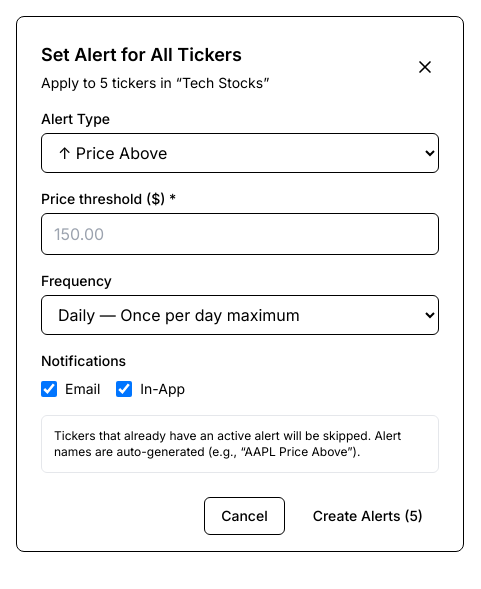
Test: BulkAlertModal — Threshold labels › shows "Volume multiplier" for volume_spike
The width and height of the screenshot is (481, 589).
Select "📊 Volume Spike" in the dropdown labelled "Alert Type": (240, 153) x1=41 y1=133 x2=439 y2=173
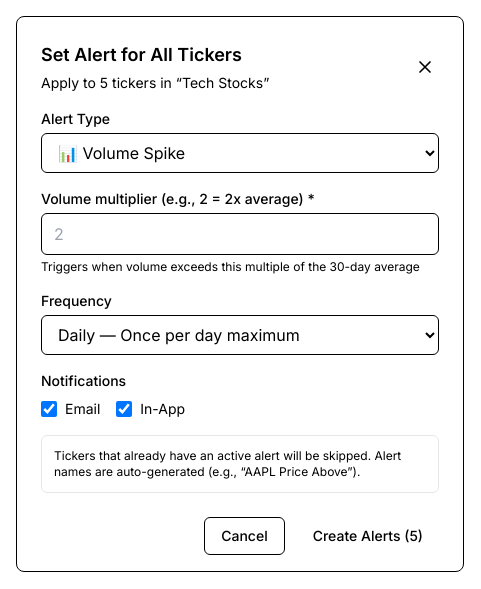
Now the text "Volume multiplier (e.g., 2 = 2x average) *" is shown, box x1=41 y1=190 x2=315 y2=207
